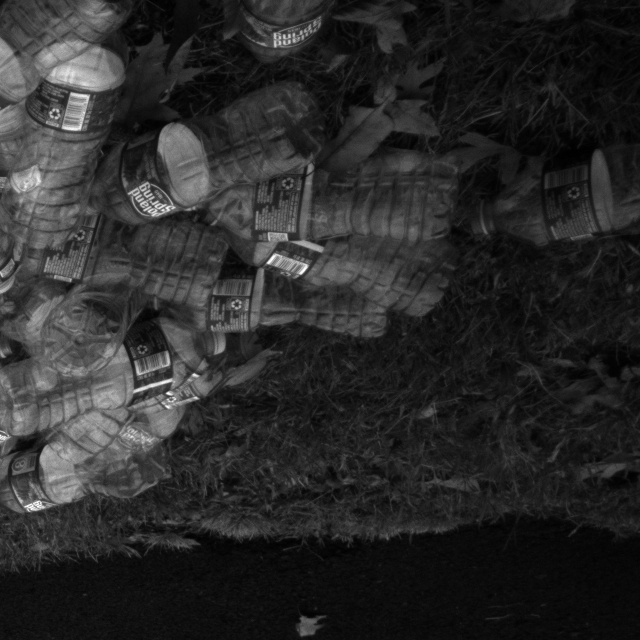bottle: (0, 28, 169, 278), (74, 76, 333, 237), (0, 320, 219, 471), (197, 159, 476, 264), (238, 213, 481, 318), (455, 146, 639, 268), (9, 210, 271, 289), (202, 264, 426, 351), (0, 0, 123, 144), (0, 129, 67, 308), (0, 315, 55, 396)
